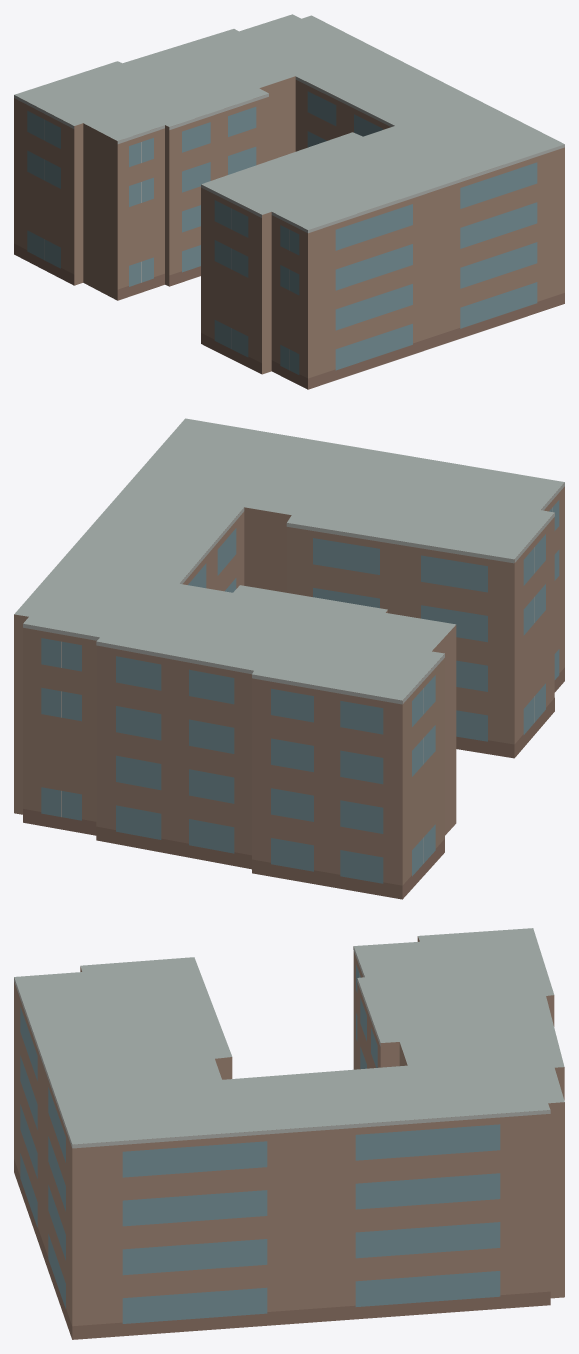
The model's file is survey-upis-33032696.glb.
3 renders of one model, top to bottom at view 1: azimuth 30°, elevation 25°; view 2: azimuth 150°, elevation 25°; view 3: azimuth 270°, elevation 25°, orthographic. The views are drawn at different scales.
Parts seen in each view (by area): view 1: survey-upis-33032696.tmp; view 2: survey-upis-33032696.tmp; view 3: survey-upis-33032696.tmp.
Part boxes in pixels (<box>): survey-upis-33032696.tmp: <box>14,14,564,389</box>; survey-upis-33032696.tmp: <box>14,418,564,899</box>; survey-upis-33032696.tmp: <box>14,928,564,1339</box>.
Bounding box in the file's own units: 29.02 × 12.2 × 31.2.
